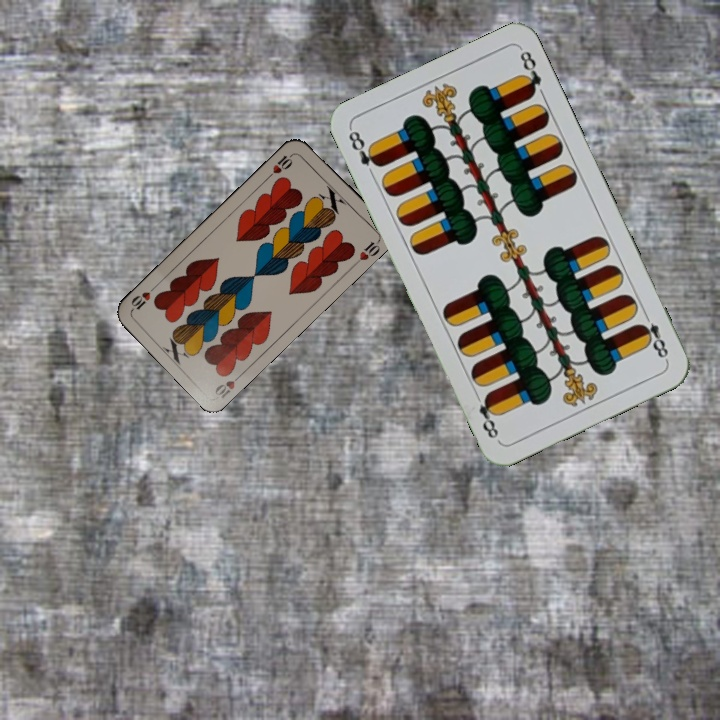E8: (635, 307, 671, 364), (344, 125, 384, 170)
H10: (211, 369, 246, 401), (263, 149, 296, 181)
